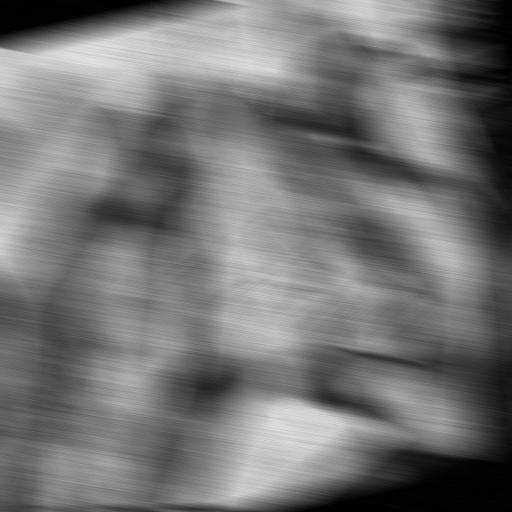eiffel-tower: (0, 0, 490, 512)
